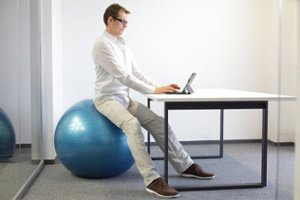yogaball: (52, 97, 148, 178)
